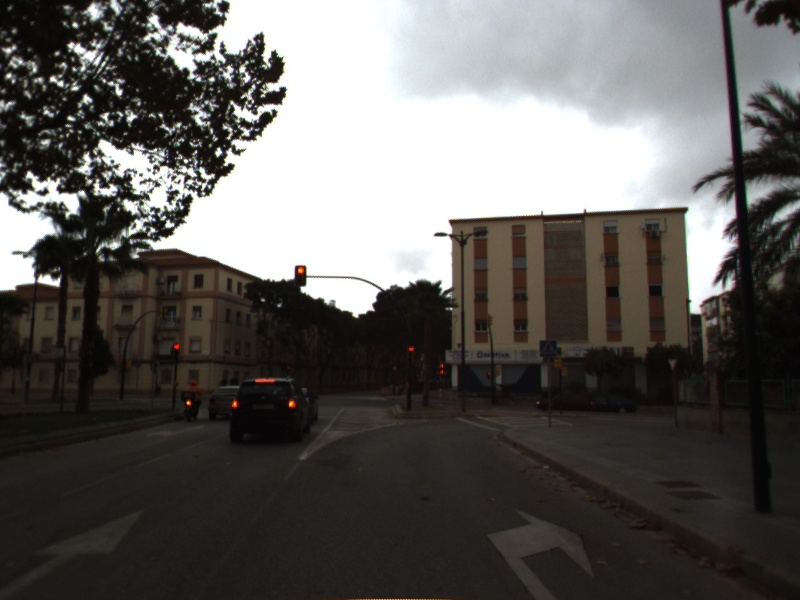RIGHT: (483, 505, 599, 600)
STRAIGHT: (1, 504, 149, 600)
